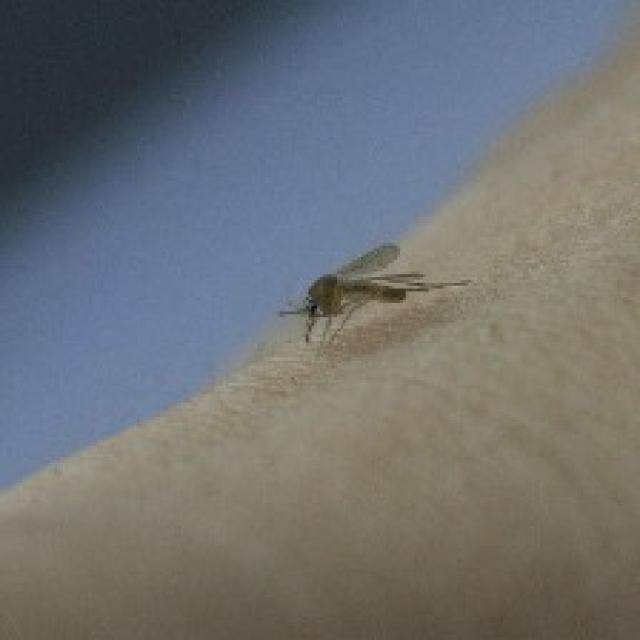culex: (274, 240, 472, 346)
